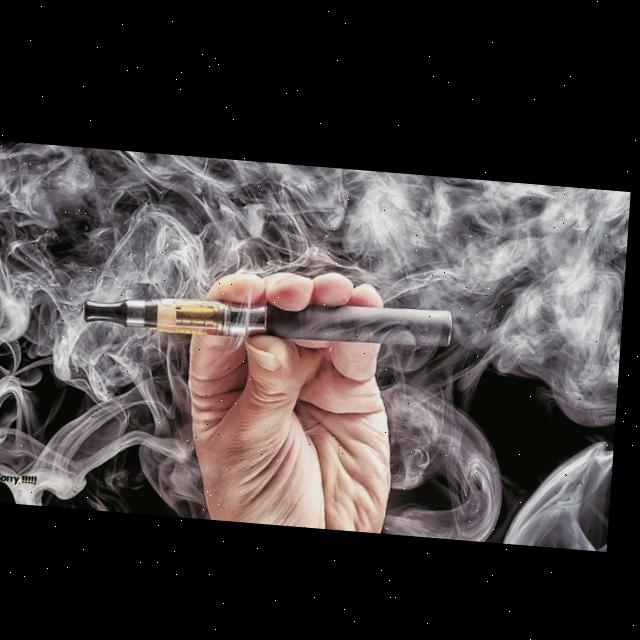vape: (87, 280, 458, 349)
